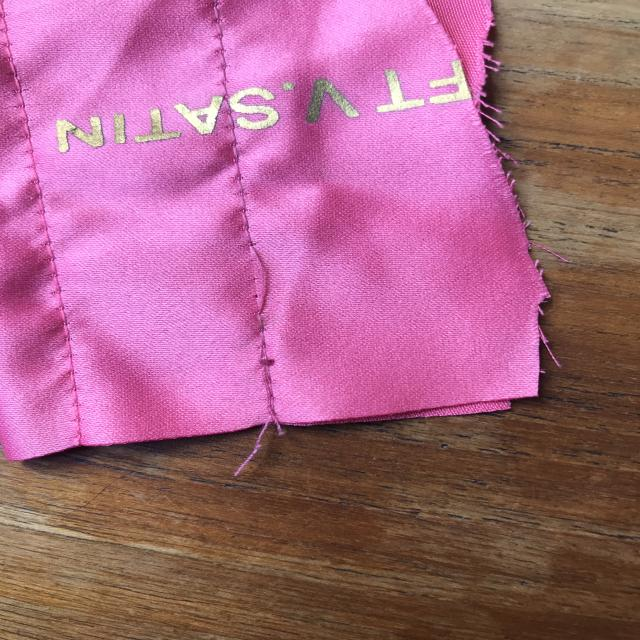skip: (222, 224, 282, 322)
